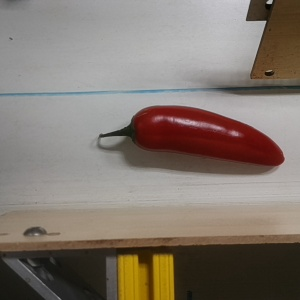Cut Point: (122, 106, 151, 151)
